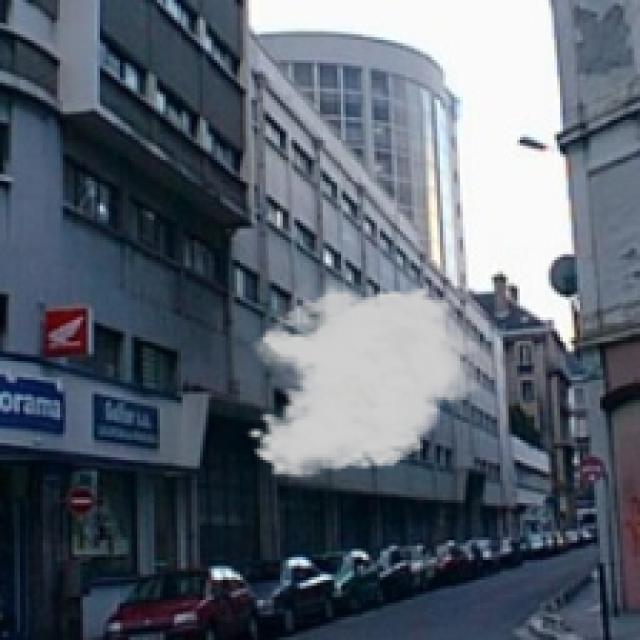smoke: (246, 274, 488, 480)
